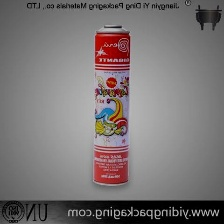aerosol_cans: (90, 20, 134, 189)
